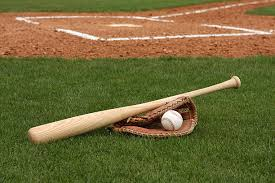baseball bat: (27, 74, 241, 146)
